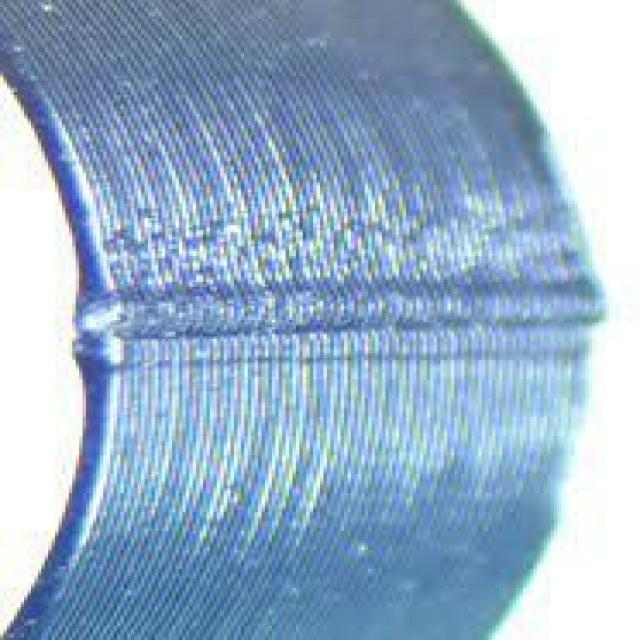spaghetti: (62, 186, 637, 368)
